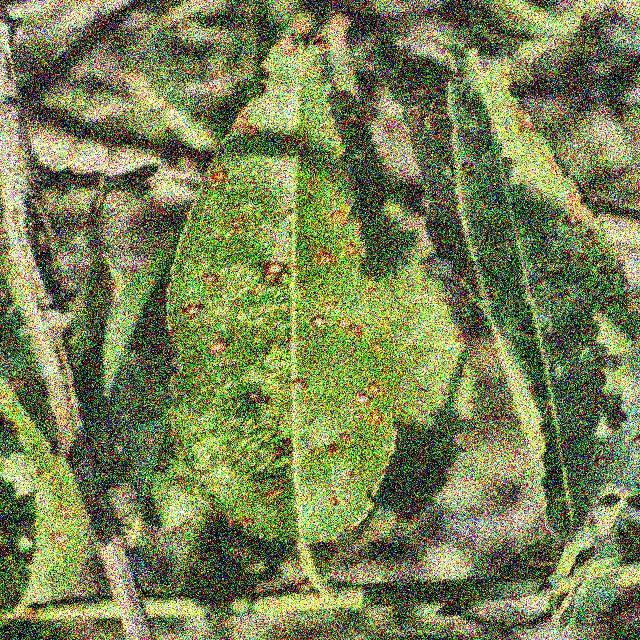leaf_spot: (136, 31, 423, 556)
